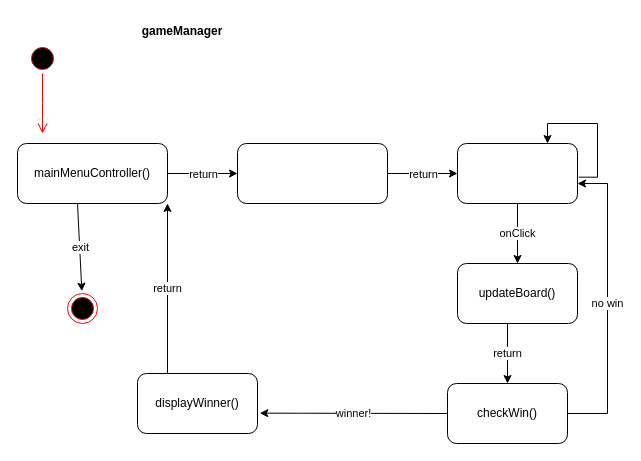
The diagram is 641 pixels wide and 461 high, and some of its shapes have lost their labels. The box of each missing label's shape, as (x1, y1, x2, y2) in pixels:
setupGame(): (236, 142, 388, 204)
wait for input: (456, 142, 578, 204)
